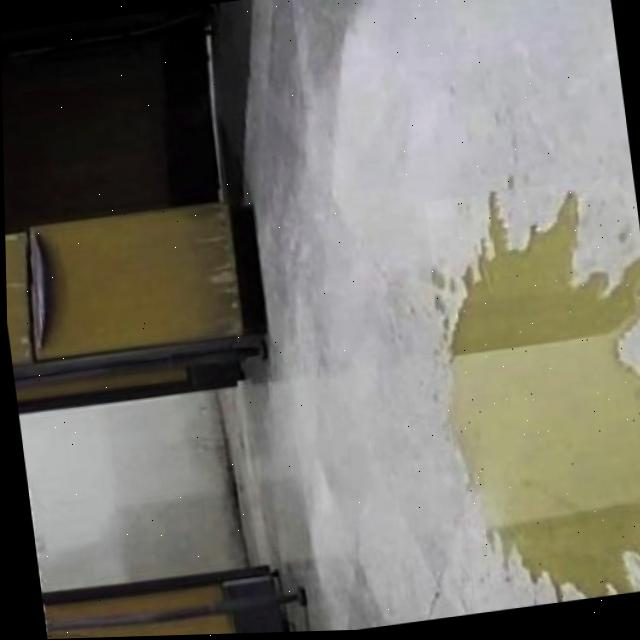spillage: (447, 196, 640, 600)
